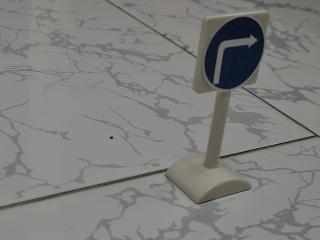right: (179, 7, 273, 101)
